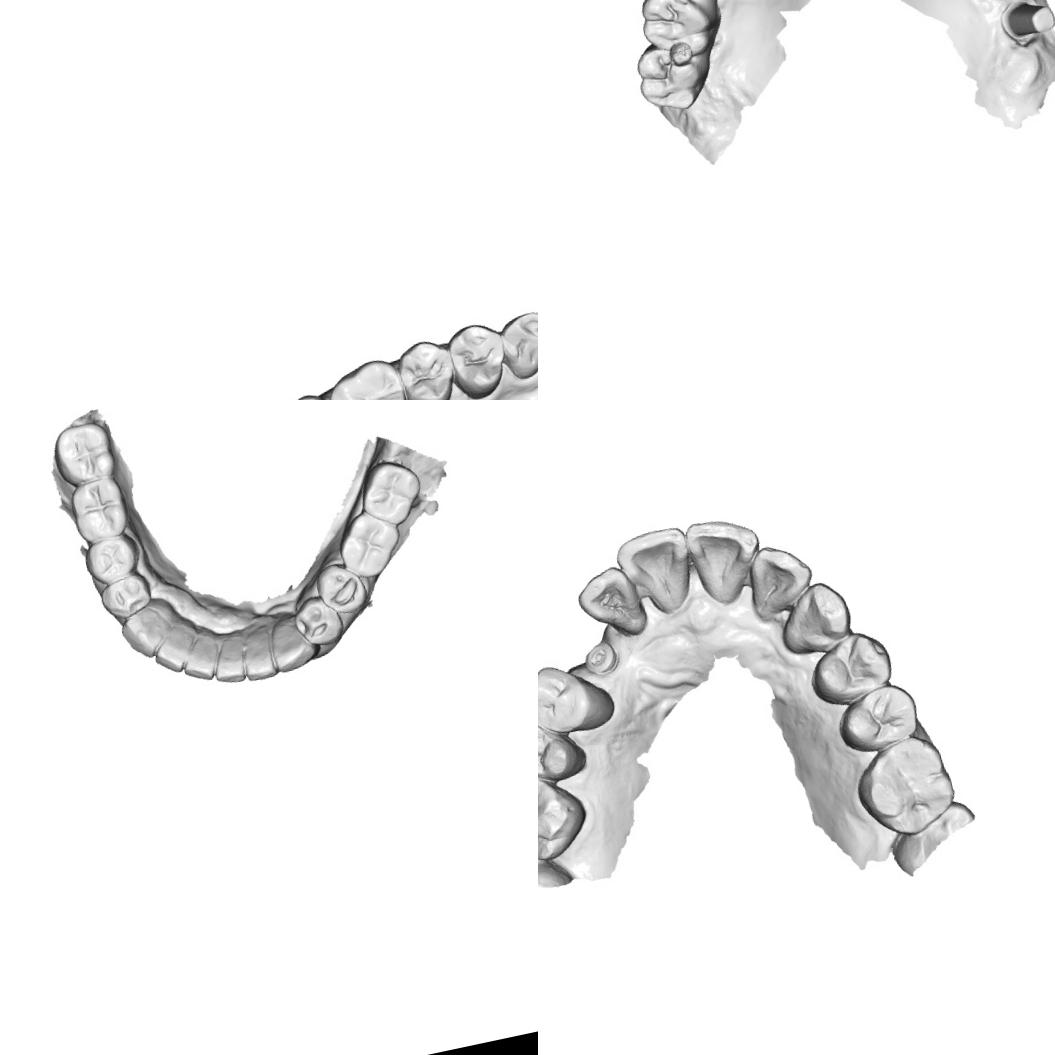abutment: (995, 0, 1055, 50)
canine: (770, 575, 859, 661), (115, 601, 176, 665), (495, 305, 538, 384), (266, 613, 317, 675)
implant_minus: (581, 638, 620, 678)
incisor: (608, 521, 700, 624), (682, 508, 772, 609), (738, 536, 821, 622), (572, 560, 650, 644), (232, 623, 282, 685), (147, 621, 200, 678), (176, 630, 224, 686), (206, 636, 249, 688)
molar: (847, 730, 964, 844), (629, 34, 717, 122), (634, 0, 730, 67), (352, 452, 430, 534), (538, 759, 595, 870), (330, 505, 409, 585), (47, 416, 122, 492), (64, 472, 136, 547), (320, 352, 417, 400)
premolar: (800, 626, 900, 710), (830, 678, 925, 758), (538, 655, 600, 747), (443, 318, 511, 400), (393, 336, 463, 400), (311, 556, 372, 622), (80, 530, 145, 589), (538, 709, 584, 792), (288, 589, 348, 652), (95, 570, 158, 624)
